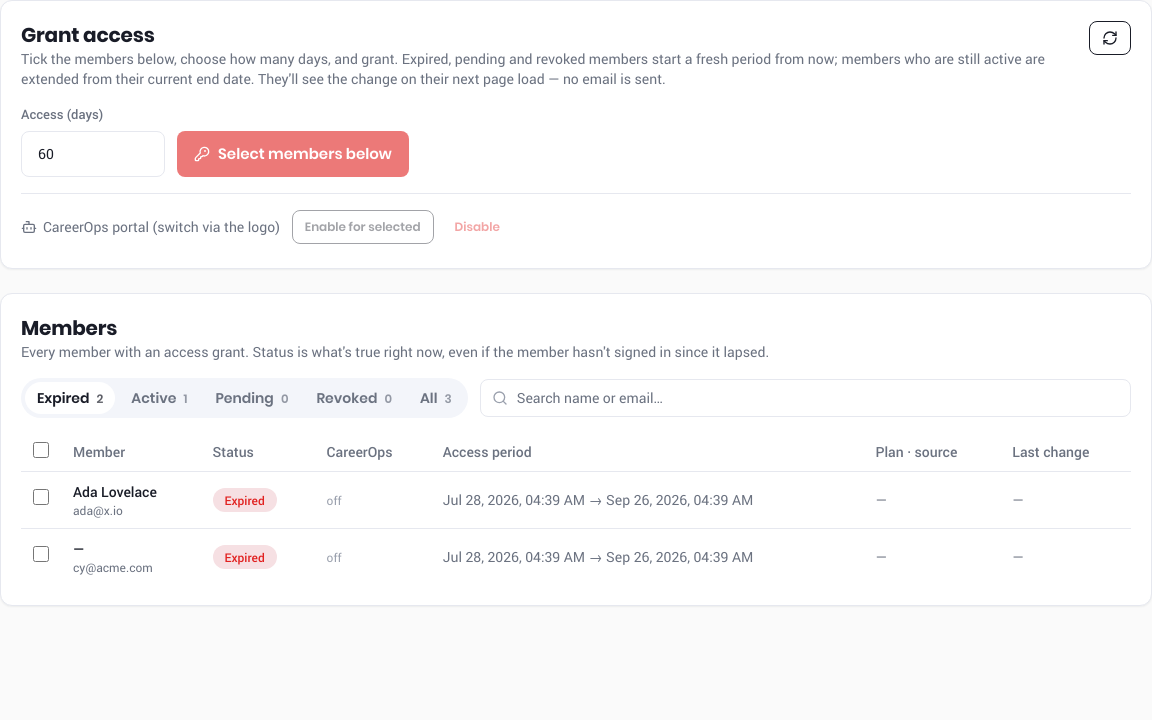
it: TOFU → Access renewals › switches the CareerOps portal on for the selected members from the same screen
Check: the text "Ada Lovelace" is shown, box [73,482,157,500]
Check: the column heading "CareerOps" is shown, box [315,434,431,471]
Step 1. Click the checkbox named "Select Ada Lovelace" → (41,497), box [33,489,49,505]
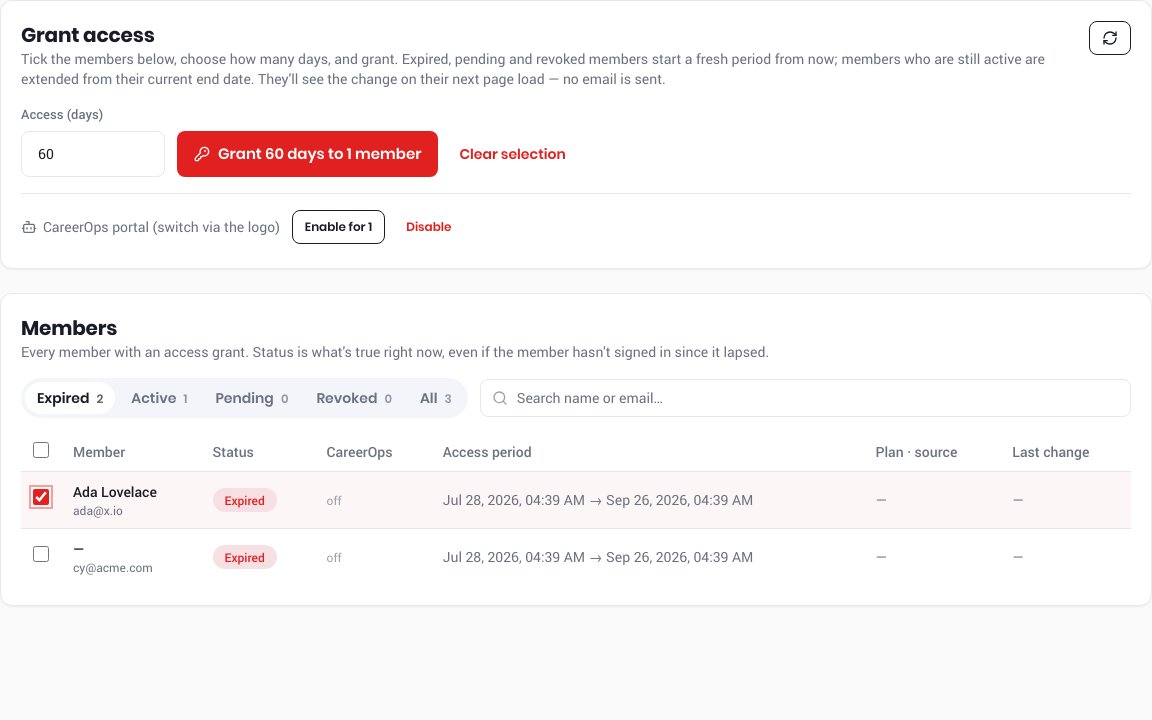
Step 2. Click the button "Enable for 1" → (338,226), box [292,210,385,244]
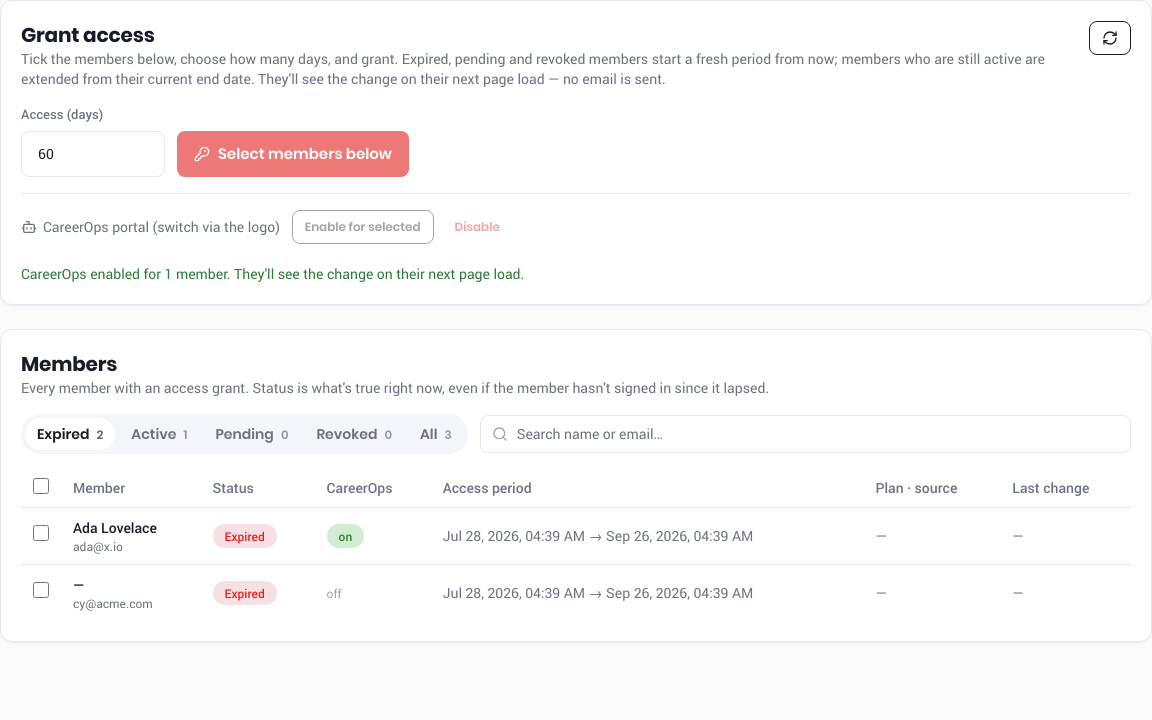
Check: the message shows "CareerOps enabled for 1 member", box [21,264,524,282]
Check: the text "on" is shown, box [327,524,364,548]
